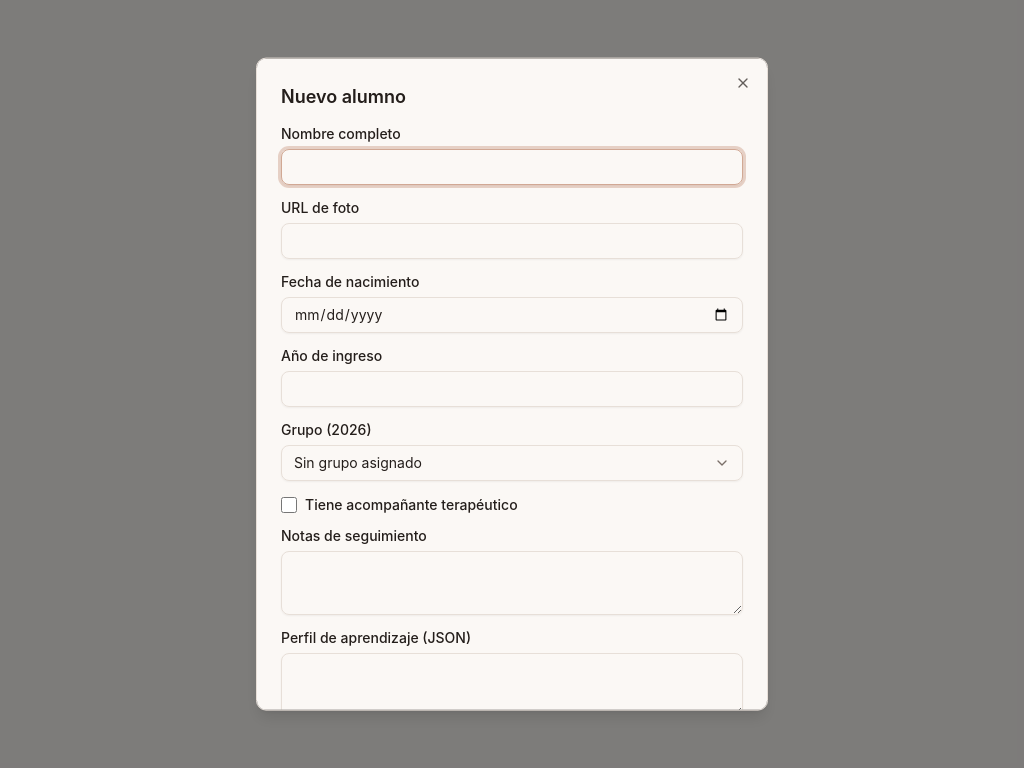
StudentFormPage › only lists groups for the current school year
Click the button labelled "Sin grupo asignado" at (358, 462), box x1=281 y1=445 x2=743 y2=481
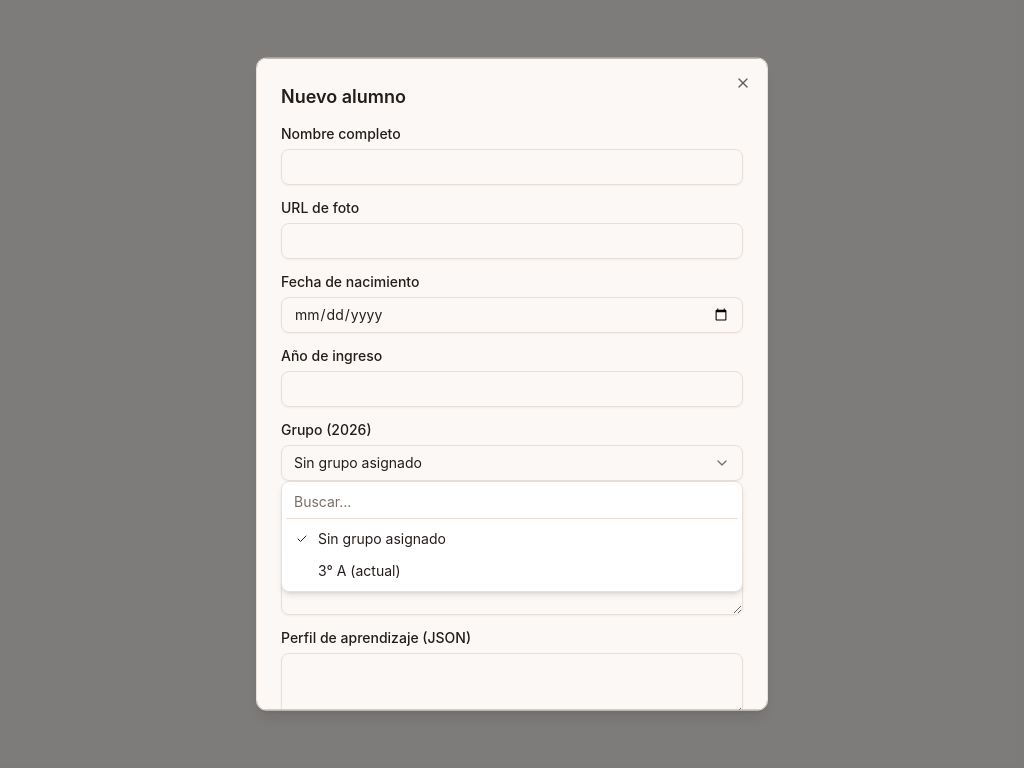
Expected: the button "3° A (actual)" is shown, x1=286 y1=555 x2=738 y2=587
